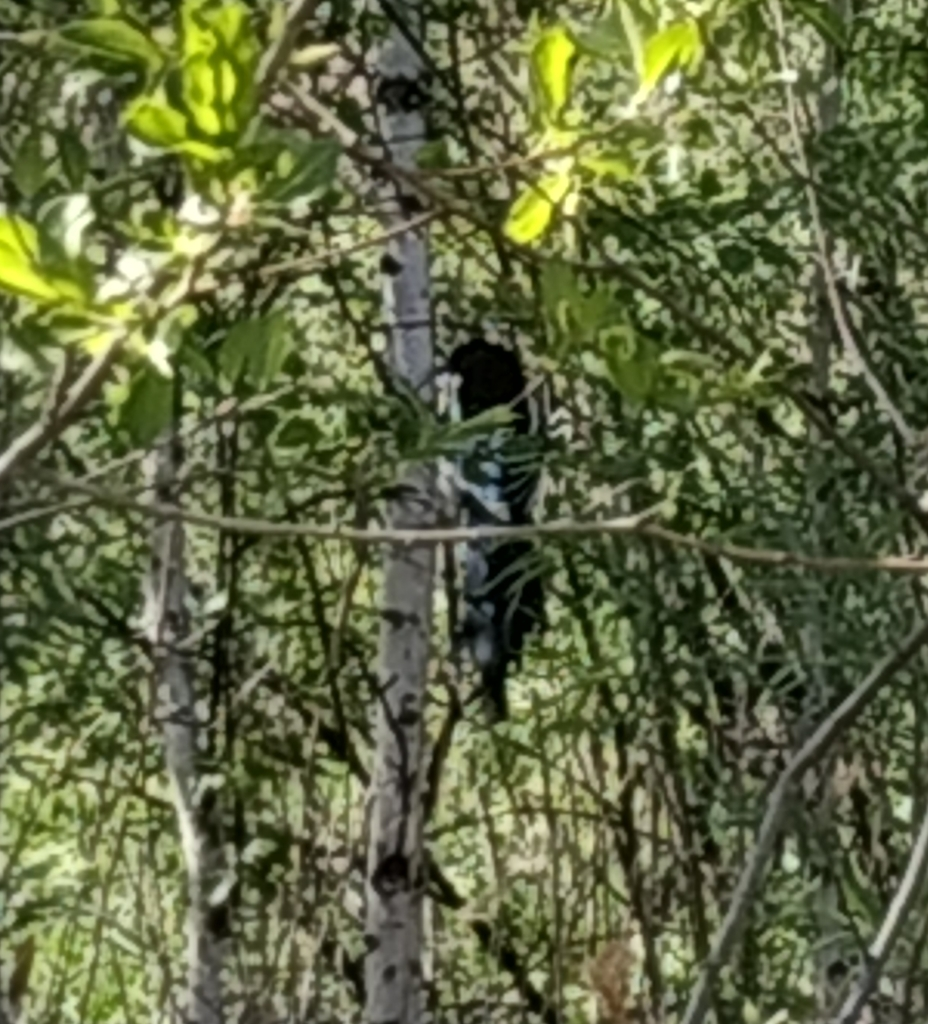Pica_pica: (434, 338, 575, 725)
